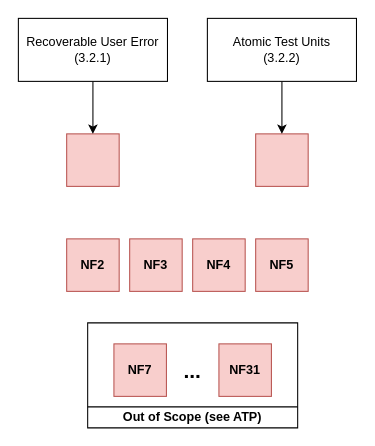
Some shapes in this 375 by 446 pixel diagram are drawn without their labels. Here are the shapes that lost their labels. From the top down, the centre of each, then its label:
At (x=92, y=159): "NF1".
At (x=281, y=159): "NF6".
